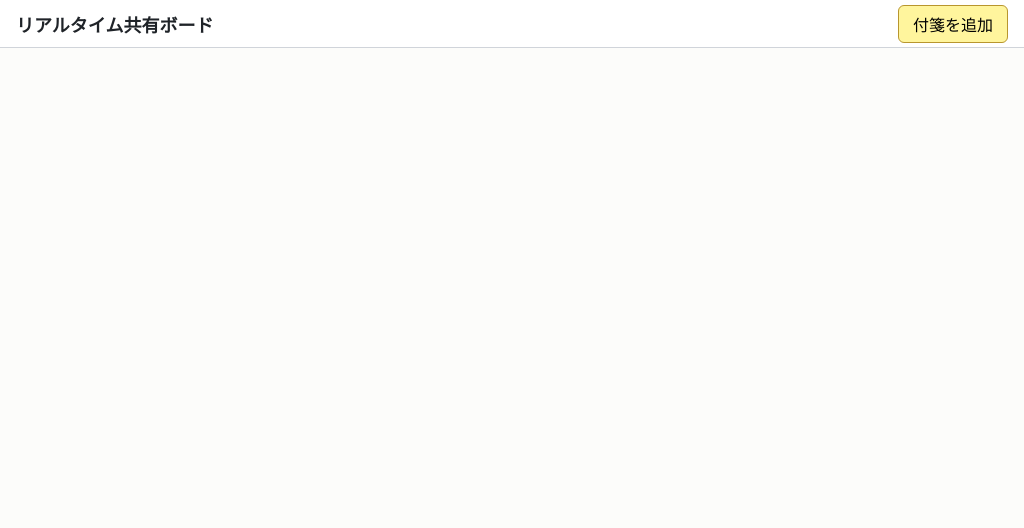
Test case: 付箋の追加 › 追加した付箋の入力欄にカーソルが入り、そのまま文字を入力できる
Click the button "付箋を追加".
click(953, 24)  # box [898,4,1008,42]
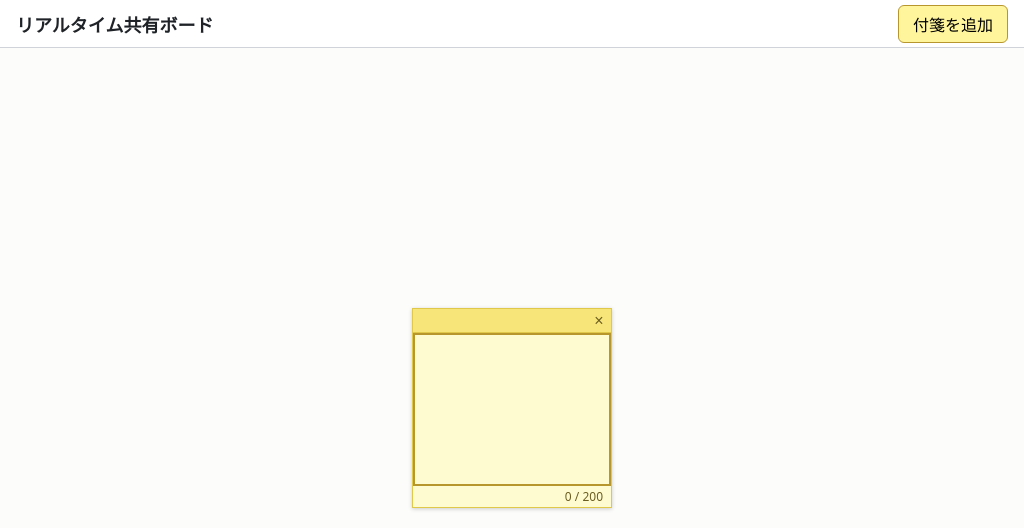
Type keys "メモ"
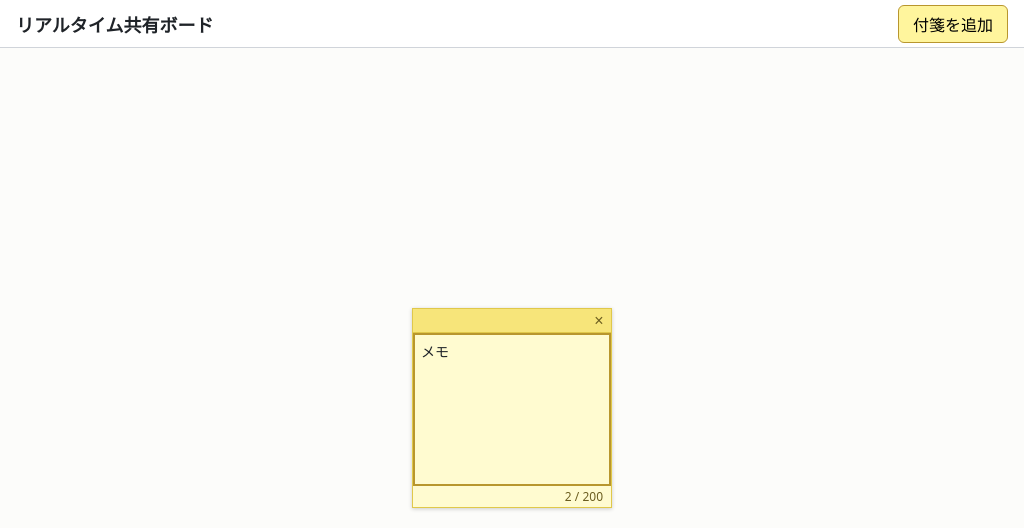
Expected: the text box named "付箋の文字" holds "メモ", [413,333,611,486]
